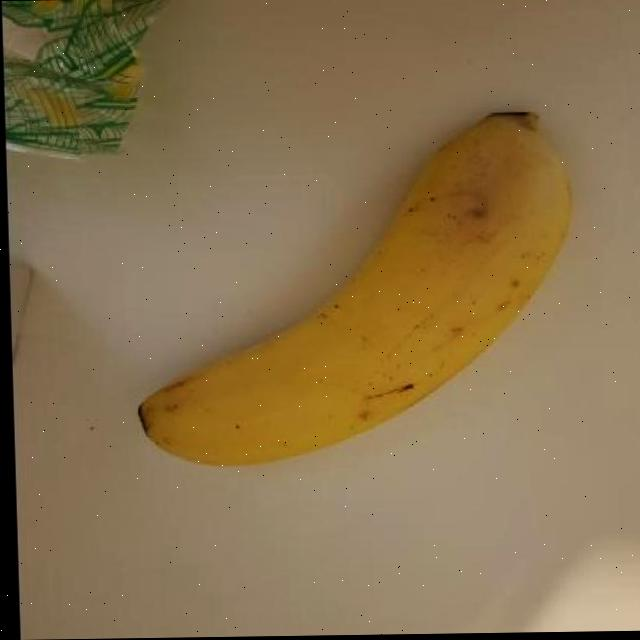banana: (123, 103, 583, 482)
